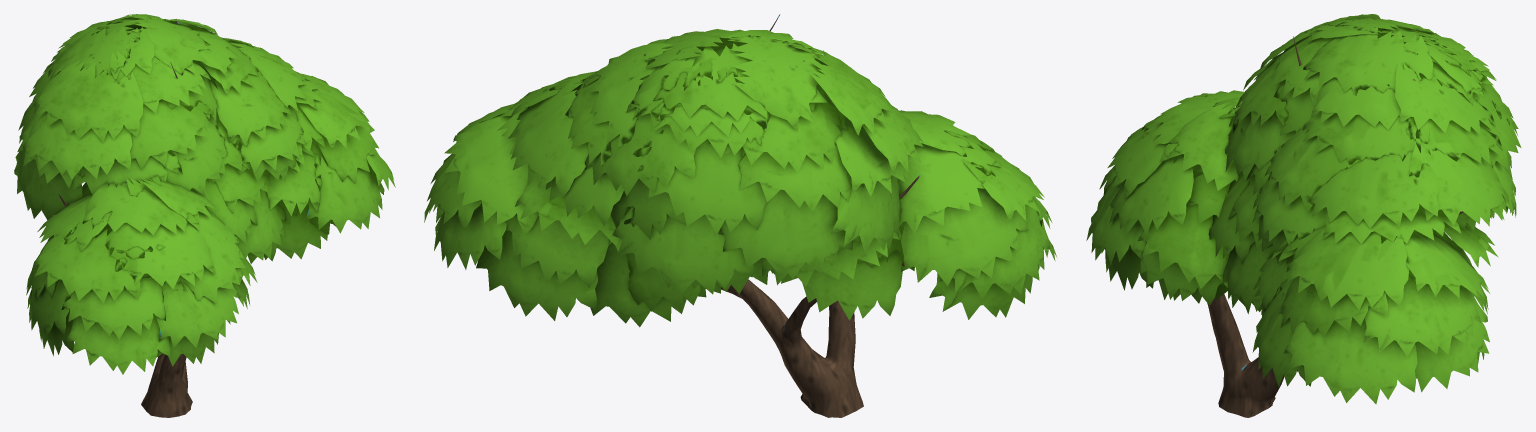
File: Tree_1.fbx
3 views of the same model, side by side, from view 1: azimuth 30°, elevation 25°; view 2: azimuth 150°, elevation 25°; view 3: azimuth 270°, elevation 25° (orthographic). The views are drawn at different scales.
Parts seen in each view (by area): view 1: Tree_1; view 2: Tree_1; view 3: Tree_1.
Part boxes in pixels (left/top/right/bottom): Tree_1: left=14, top=14, right=395, bottom=417; Tree_1: left=424, top=14, right=1056, bottom=417; Tree_1: left=1086, top=14, right=1521, bottom=417.
Size of the model in its own units: 228 by 174 by 177.
